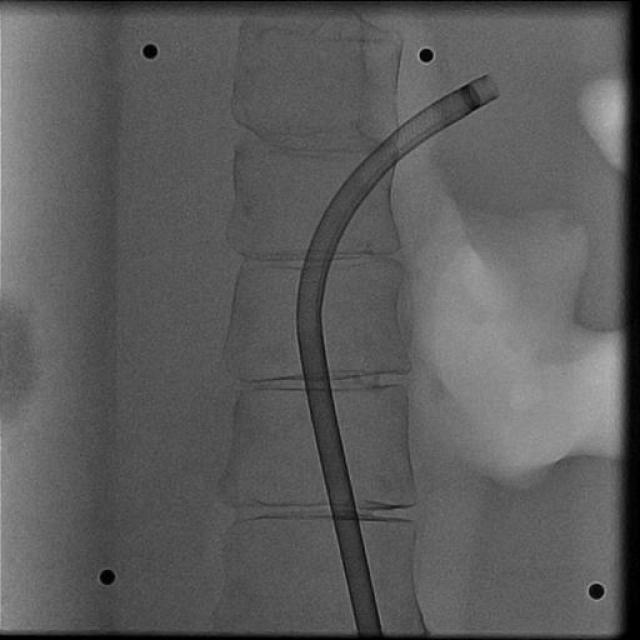bend: (295, 310, 321, 326)
entry: (358, 628, 383, 636)
marker: (458, 83, 482, 112)
tip: (484, 76, 502, 96)
